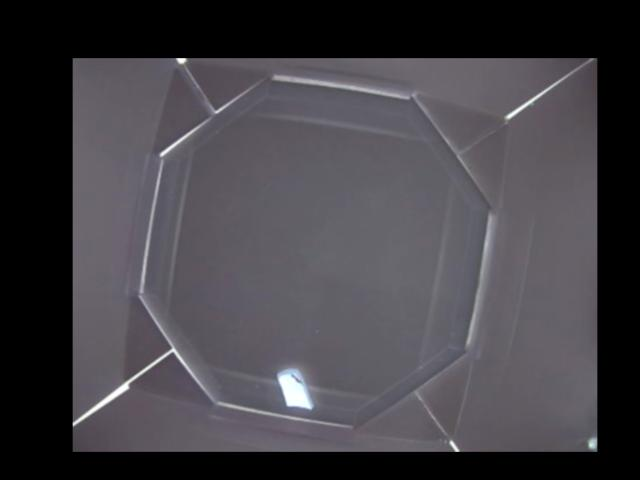China: (275, 364, 311, 412)
